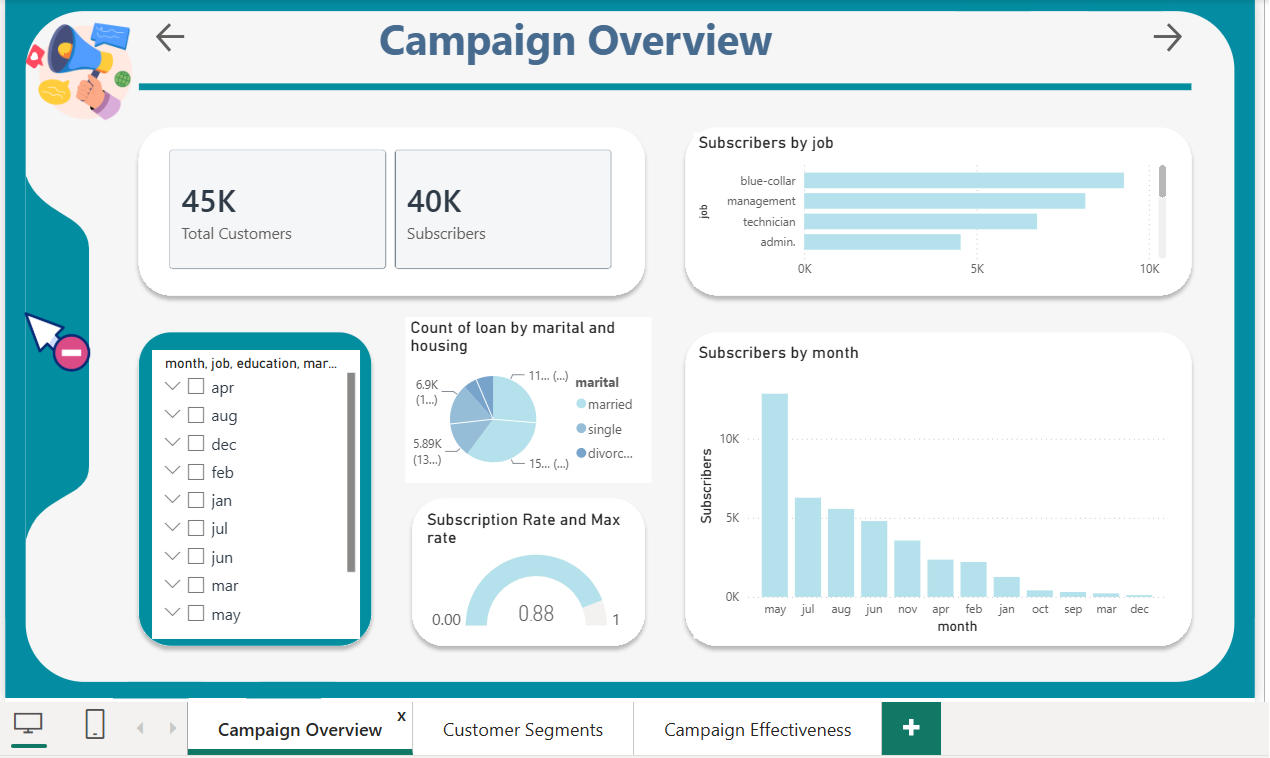

What the dashboard file says about the page in this screenshot:
{"tool":"powerbi","page":{"name":"Campaign Overview","canvas":[1280,720],"ordinal":0},"visuals":[{"type":"cardVisual","fields":{"Data":["bank_marketing_cleaned.Total Customers","bank_marketing_cleaned.Subscribers"]},"box":[150.9,137.2,488.5,157.8],"z":0},{"type":"gauge","fields":{"Y":["bank_marketing_cleaned.Subscription Rate"],"MaxValue":["bank_marketing_cleaned.Max rate"]},"box":[426.8,522.8,212.7,131.7],"z":1000},{"type":"slicer","fields":{"Values":["bank_marketing_cleaned.month","bank_marketing_cleaned.job","bank_marketing_cleaned.education","bank_marketing_cleaned.marital"]},"box":[150.9,359.5,212.7,295],"z":2000},{"type":"clusteredColumnChart","fields":{"Category":["bank_marketing_cleaned.month"],"Y":["bank_marketing_cleaned.Subscribers"]},"box":[705.3,351.3,488.5,303.3],"z":3000},{"type":"textbox","box":[377.3,5.8,488.2,69.1],"z":4000},{"type":"actionButton","box":[151.2,20.2,99.4,38.9],"z":5000},{"type":"actionButton","box":[1170.7,20.2,99.4,38.9],"z":6000},{"type":"image","box":[0,16.7,151.1,114.4],"z":7000},{"type":"image","box":[20,284.3,67.1,134.3],"z":8000},{"type":"clusteredBarChart","fields":{"Category":["bank_marketing_cleaned.job"],"Y":["bank_marketing_cleaned.Subscribers"]},"box":[705,137,489,158],"z":9000},{"type":"pieChart","fields":{"Category":["bank_marketing_cleaned.marital"],"Series":["bank_marketing_cleaned.housing"],"Y":["CountNonNull(bank_marketing_cleaned.loan)"]},"box":[410.9,325.5,251.8,170],"z":10000}]}

Visuals, with their boxes on the page's 1280x720 design canvas (x1, y1, x2, y2). These are canvas units, not pixel positions in the 1270x758 screenshot, which may show the page scaled, cropped or inside an application window:
cardVisual - bank_marketing_cleaned.Total Customers x bank_marketing_cleaned.Subscribers: [left=151, top=137, right=639, bottom=295]
gauge - bank_marketing_cleaned.Subscription Rate x bank_marketing_cleaned.Max rate: [left=427, top=523, right=640, bottom=654]
slicer - bank_marketing_cleaned.month x bank_marketing_cleaned.job: [left=151, top=360, right=364, bottom=654]
clusteredColumnChart - bank_marketing_cleaned.month x bank_marketing_cleaned.Subscribers: [left=705, top=351, right=1194, bottom=655]
textbox: [left=377, top=6, right=866, bottom=75]
actionButton: [left=151, top=20, right=251, bottom=59]
actionButton: [left=1171, top=20, right=1270, bottom=59]
image: [left=0, top=17, right=151, bottom=131]
image: [left=20, top=284, right=87, bottom=419]
clusteredBarChart - bank_marketing_cleaned.job x bank_marketing_cleaned.Subscribers: [left=705, top=137, right=1194, bottom=295]
pieChart - bank_marketing_cleaned.marital x bank_marketing_cleaned.housing: [left=411, top=326, right=663, bottom=496]
